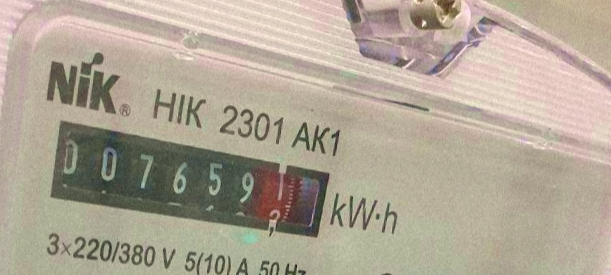0: (93, 142, 121, 185), (54, 135, 81, 178)
1: (269, 171, 289, 205)
5: (201, 159, 225, 199)
6: (166, 157, 191, 198)
7: (131, 150, 154, 192)
9: (234, 168, 255, 207)
screen: (36, 111, 339, 258)
